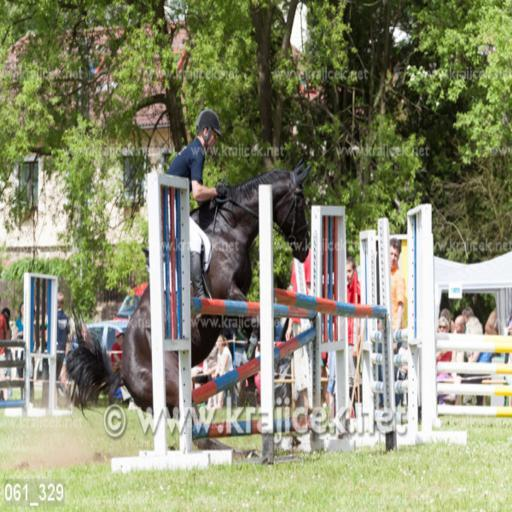Horse: (59, 159, 311, 463)
